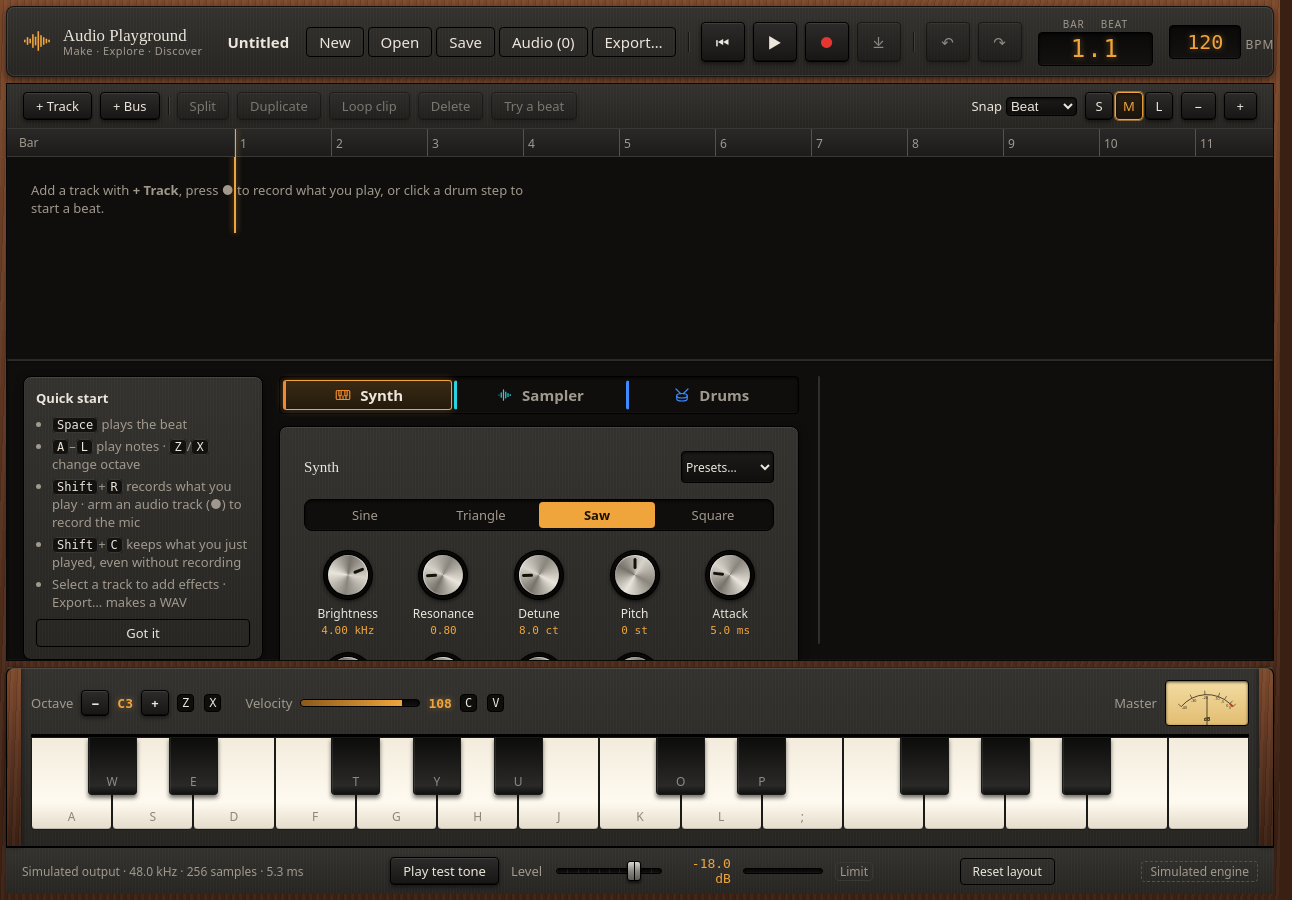
Test case: App › adds tracks from the menu, one per instrument
Step 1. Click the button "+ Track" → (58, 106), box [23,92,92,120]
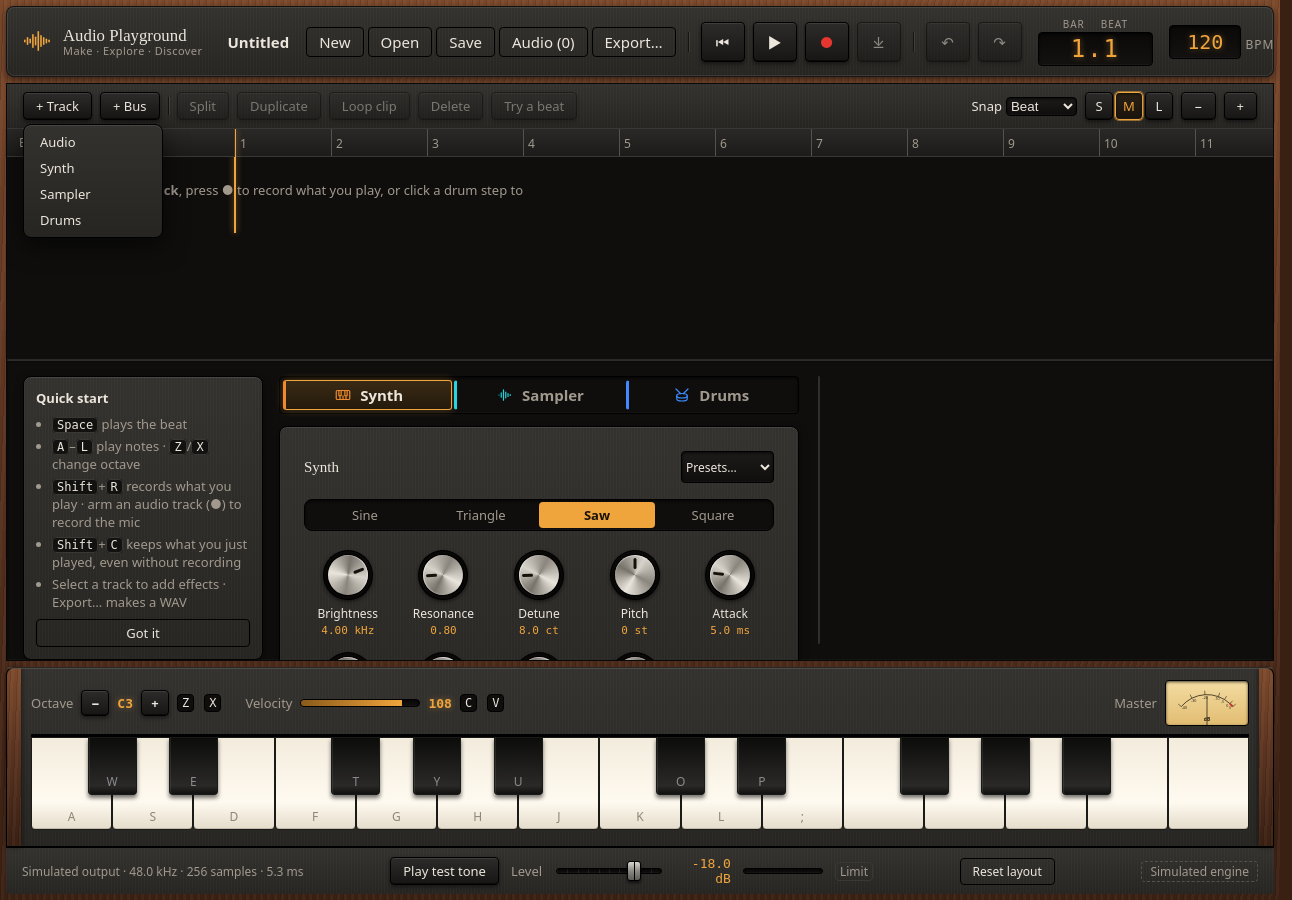
Step 2. Click the menu item "Synth" → (93, 168), box [28,155,158,181]
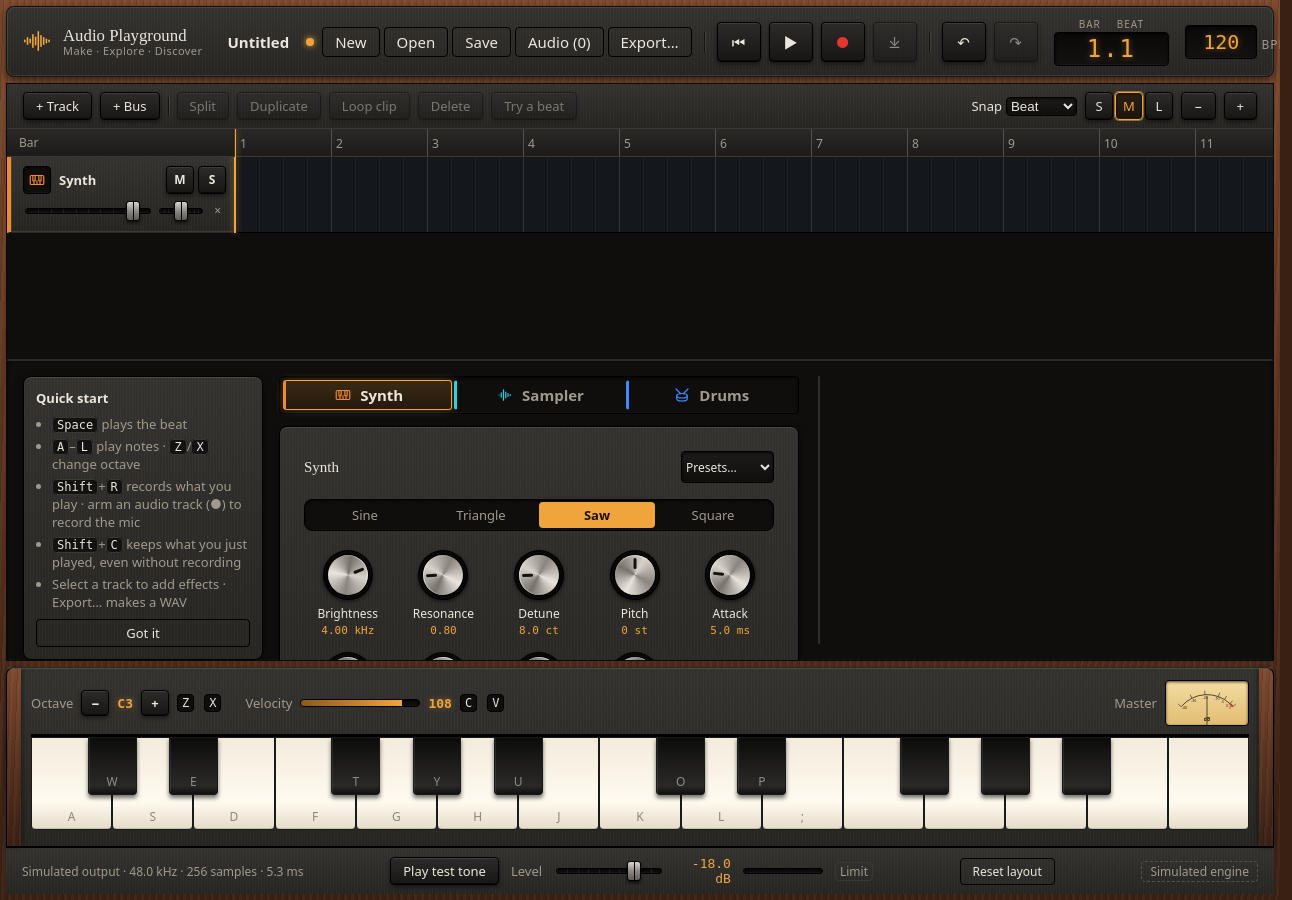
Now the element named "Synth track" is shown, box [7,157,235,233]
Step 3. Click the button "+ Track" → (58, 106), box [23,92,92,120]
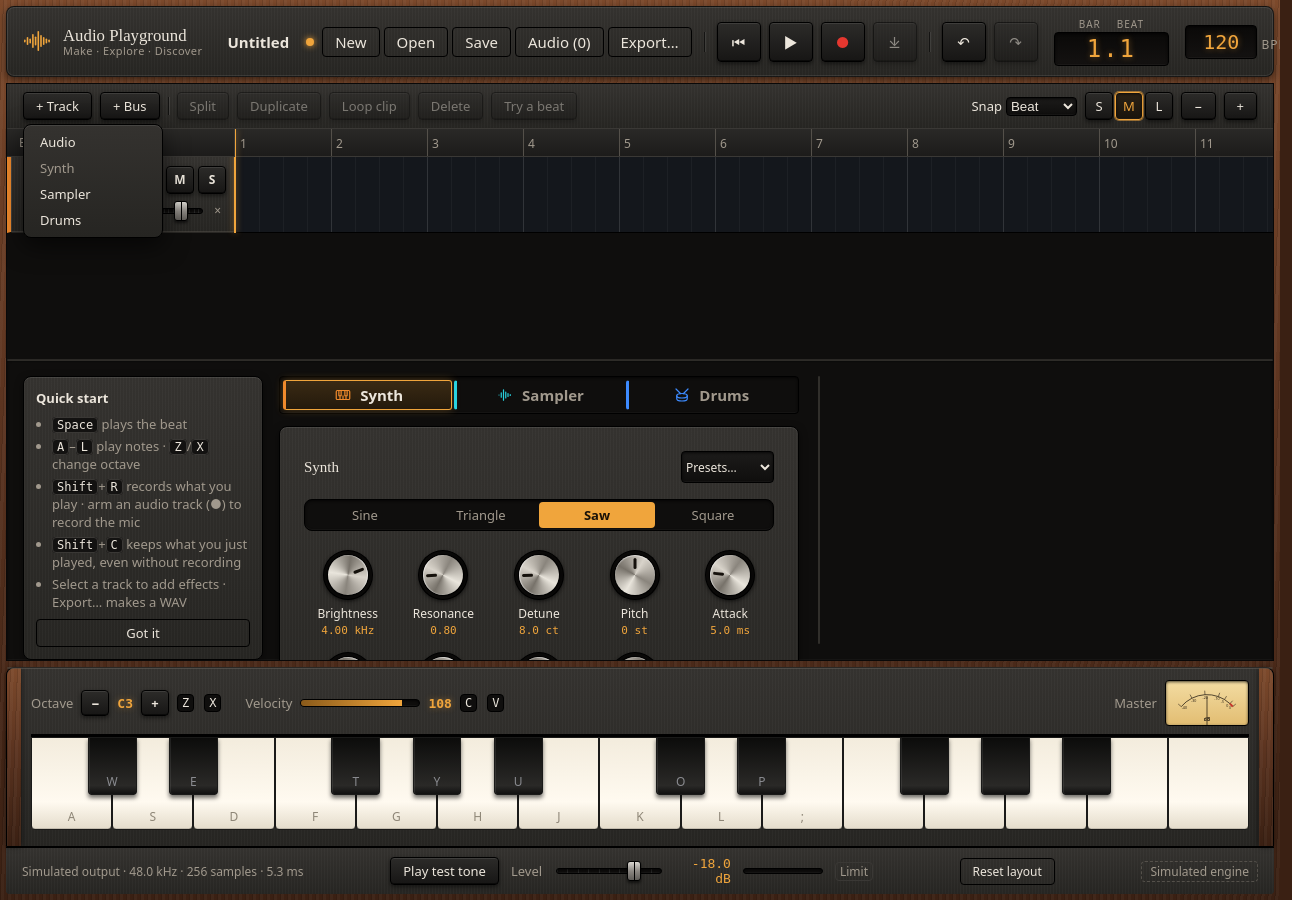
Now the menu item "Synth" is disabled, box [28,155,158,181]
Step 4. Click the menu item "Audio" → (93, 142), box [28,129,158,155]
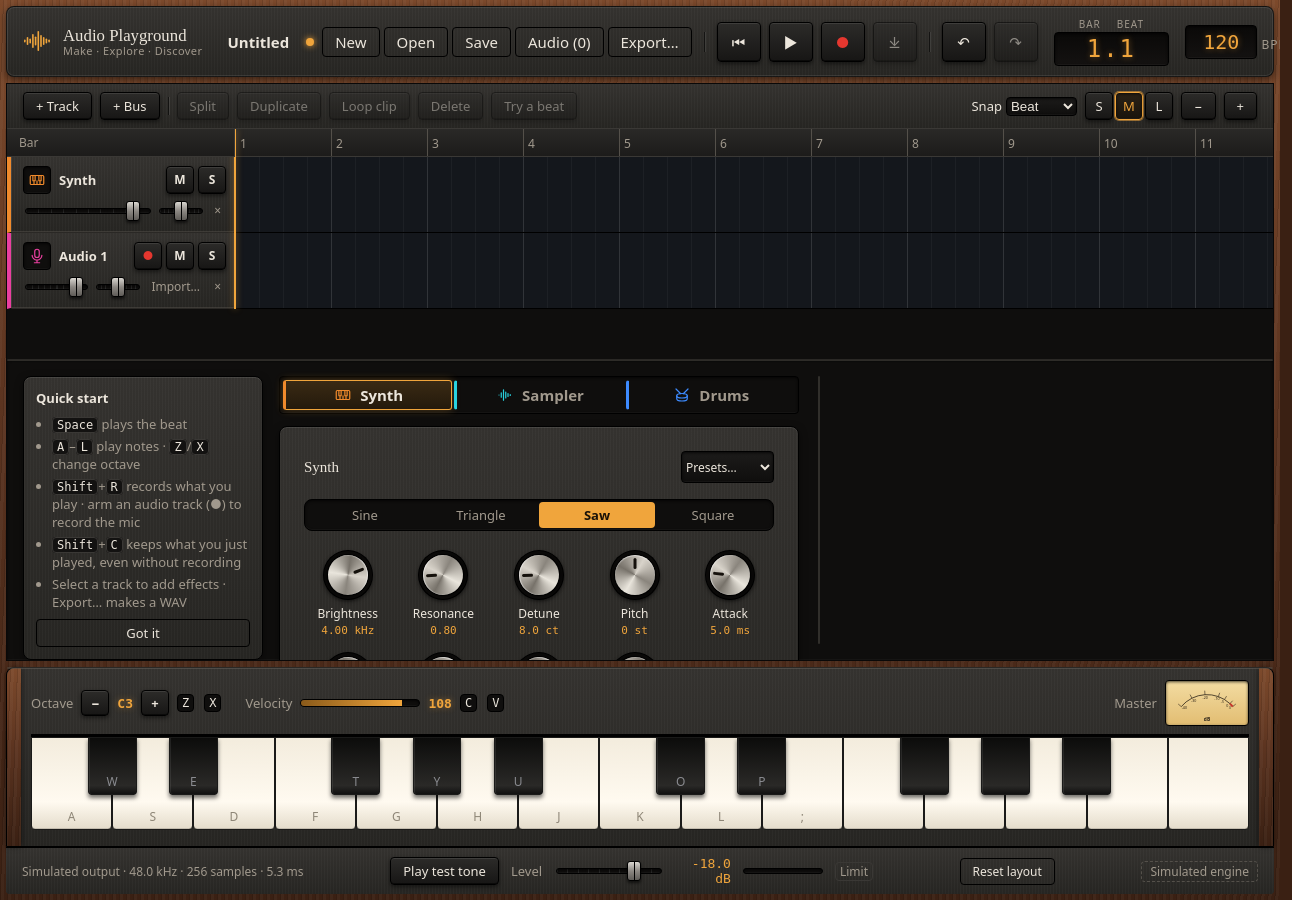
Now the element named "Audio 1 track" is shown, box [7,233,235,309]
